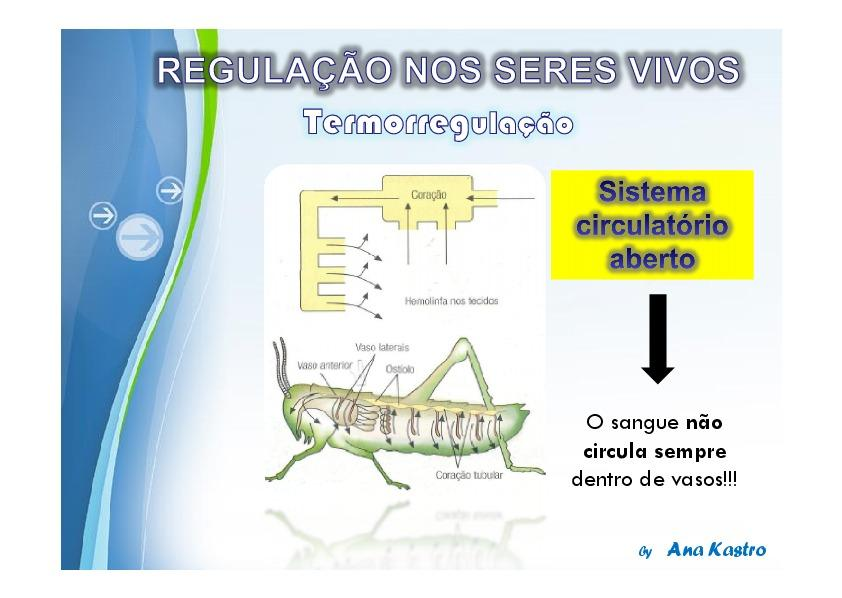paragraph: (539, 153, 789, 526)
title: (149, 31, 765, 148)
